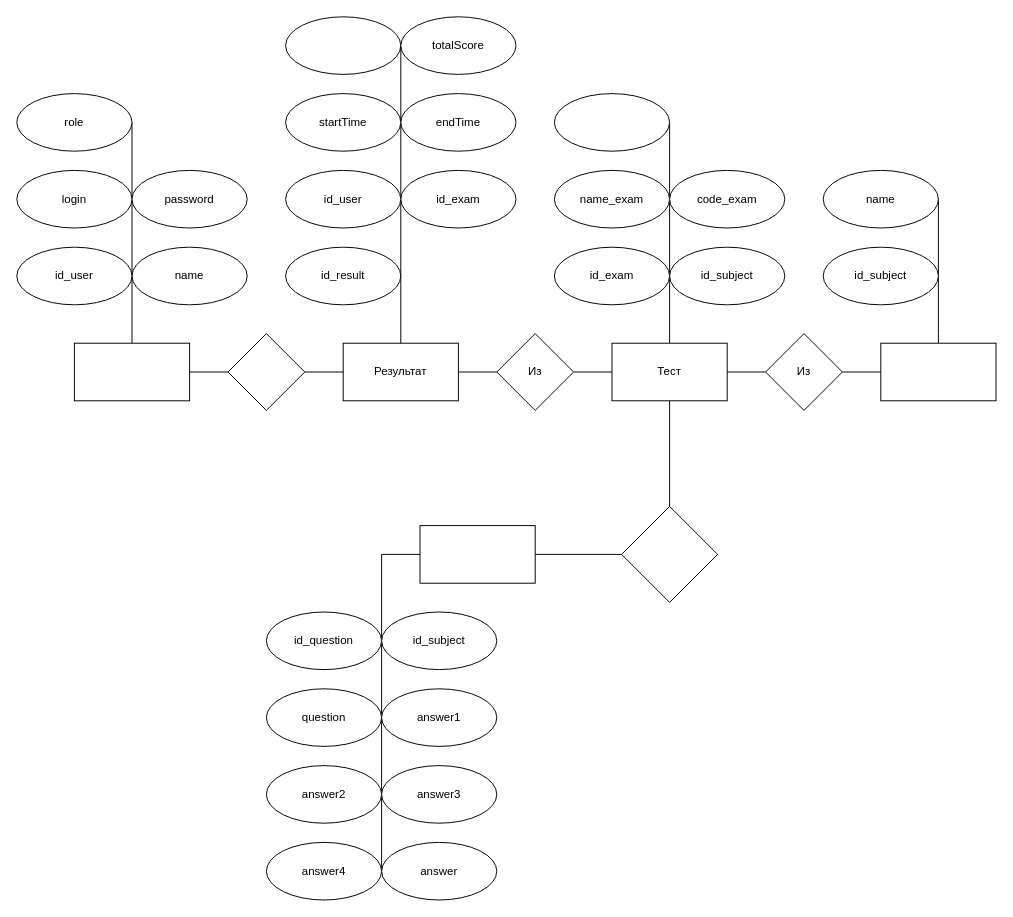
Image size: 1013x917. Some labels were removed from this diagram. The box of each missing label's shape, as (x1, y1, x2, y2) in pixels:
duration: (553, 93, 670, 151)
score: (285, 16, 401, 74)
Вопрос: (419, 525, 535, 583)
Имеет: (227, 333, 305, 410)
Пользователь: (73, 342, 190, 401)
Предмет: (880, 342, 996, 401)
Приладлежит: (621, 505, 718, 602)
